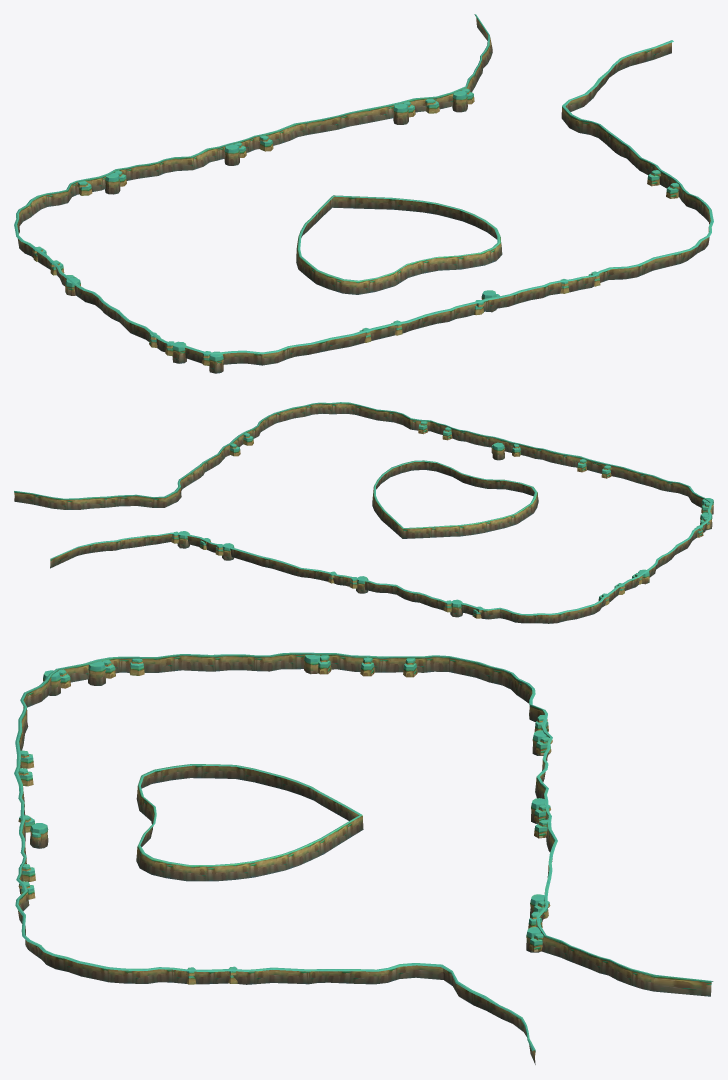
File: CBS_Ground_cliff.FBX
The picture shows the model from 3 angles, top to bottom: view 1: azimuth 30°, elevation 25°; view 2: azimuth 150°, elevation 25°; view 3: azimuth 270°, elevation 25°; orthographic projection. The views are drawn at different scales.
Parts seen in each view (by area): view 1: CBS_Ground_cliff; view 2: CBS_Ground_cliff; view 3: CBS_Ground_cliff.
Boxes of the visible parts, x1,y1,x2,y2 form: CBS_Ground_cliff: [14, 14, 713, 373]; CBS_Ground_cliff: [14, 402, 713, 623]; CBS_Ground_cliff: [14, 652, 713, 1064].
Bounding box in the file's own units: 8788 × 207 × 6496.
